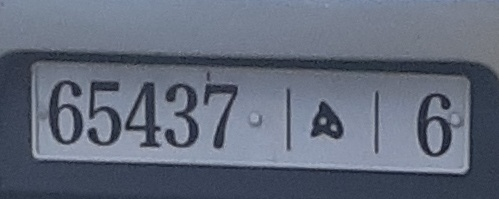3: (162, 75, 202, 155)
4: (121, 77, 163, 152)
5: (84, 74, 124, 153)
6: (412, 84, 453, 161), (44, 75, 88, 146)
7: (201, 77, 242, 153)
h: (308, 91, 349, 146)
